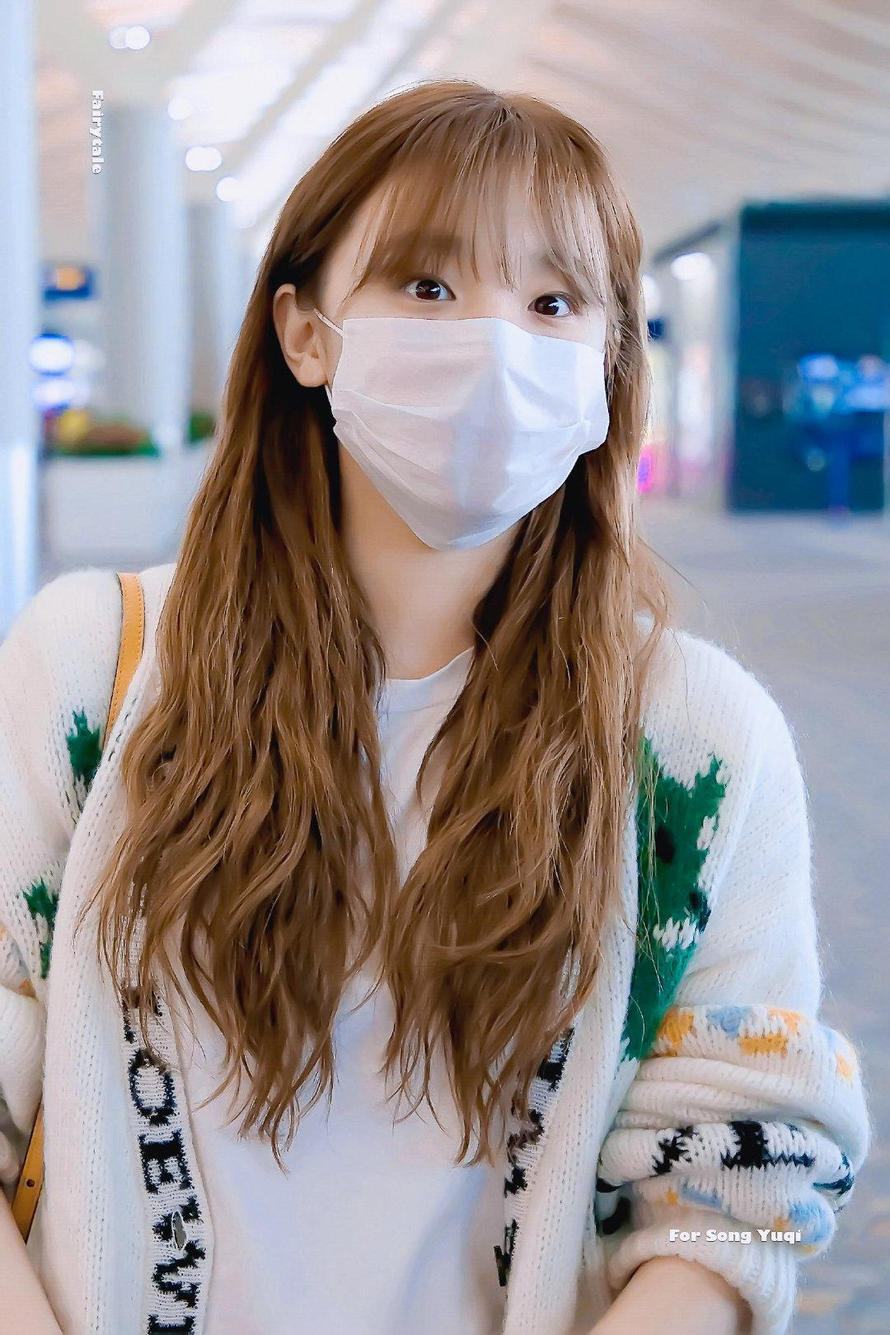OK: (332, 204, 612, 527)
